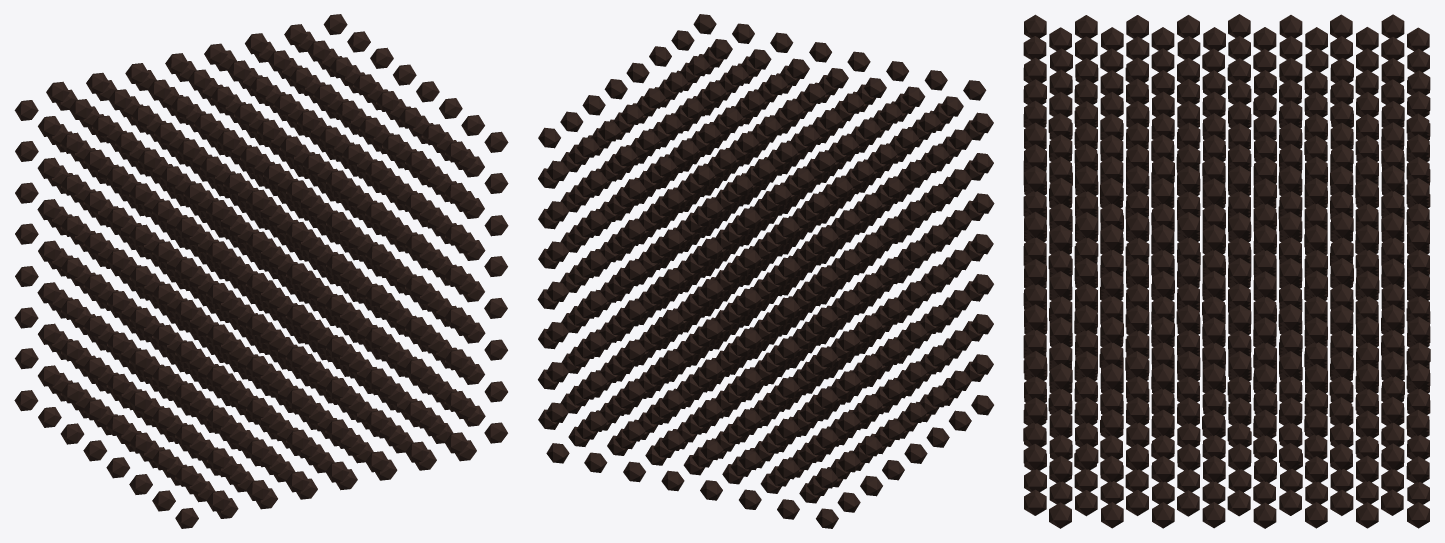
File: research_v.glb
3 views of the same model, side by side, from view 1: azimuth 30°, elevation 25°; view 2: azimuth 150°, elevation 25°; view 3: azimuth 270°, elevation 25° (orthographic). The views are drawn at different scales.
Bounding box in the file's own units: 24.15 × 24.15 × 24.15.
